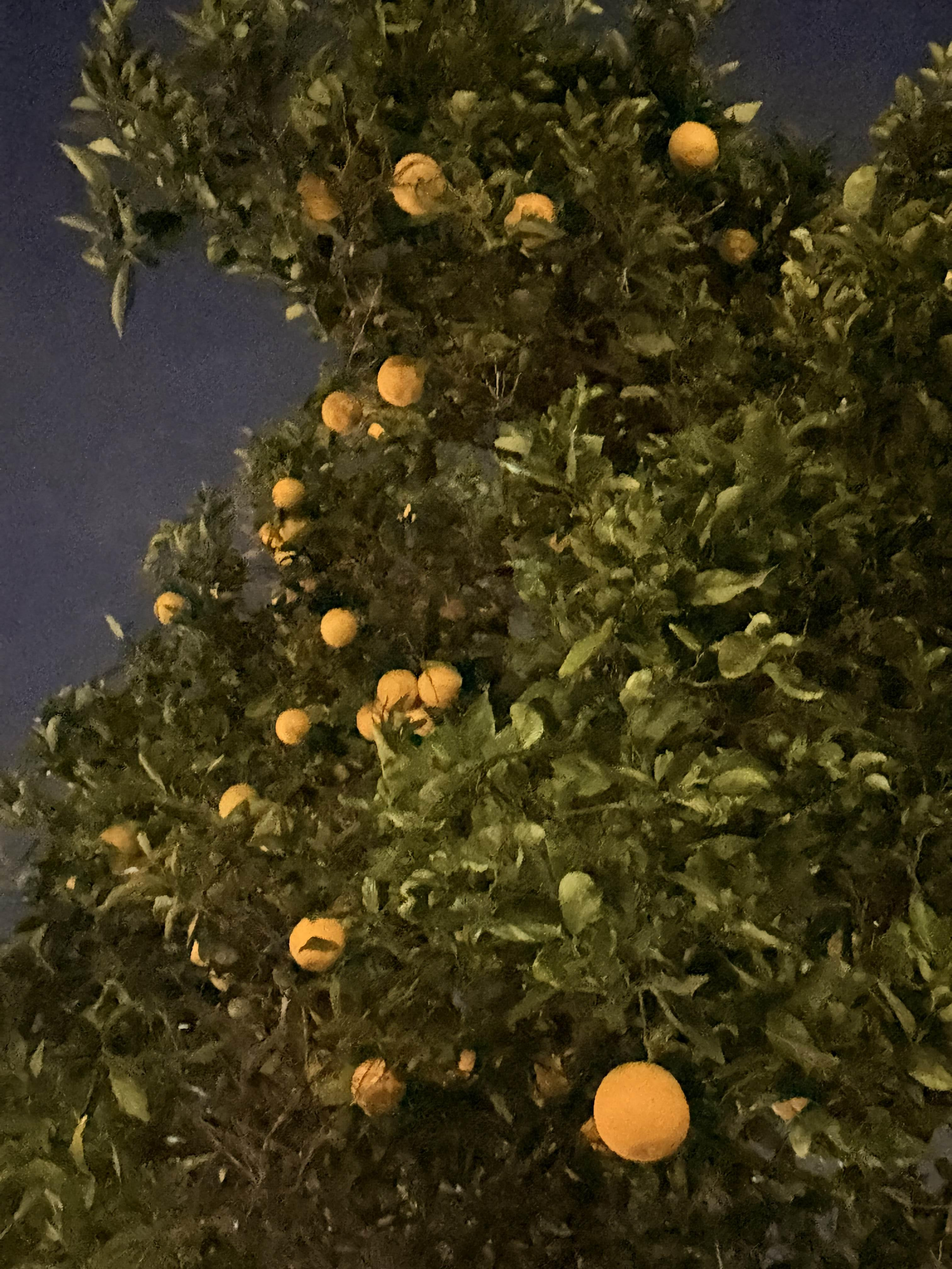orange: (594, 1062, 689, 1162), (391, 153, 446, 216), (288, 917, 346, 972), (351, 1058, 405, 1117), (668, 121, 719, 173), (377, 356, 425, 407), (297, 172, 342, 222), (528, 1049, 570, 1099), (417, 663, 461, 708), (376, 670, 418, 712), (321, 391, 363, 433), (504, 193, 555, 227), (320, 609, 357, 647), (719, 229, 757, 265), (356, 700, 389, 741), (392, 704, 434, 736), (219, 784, 257, 819), (275, 709, 310, 745), (154, 591, 190, 625), (100, 825, 138, 855), (272, 477, 306, 510), (279, 517, 311, 544), (259, 521, 281, 550), (459, 1049, 476, 1074)
